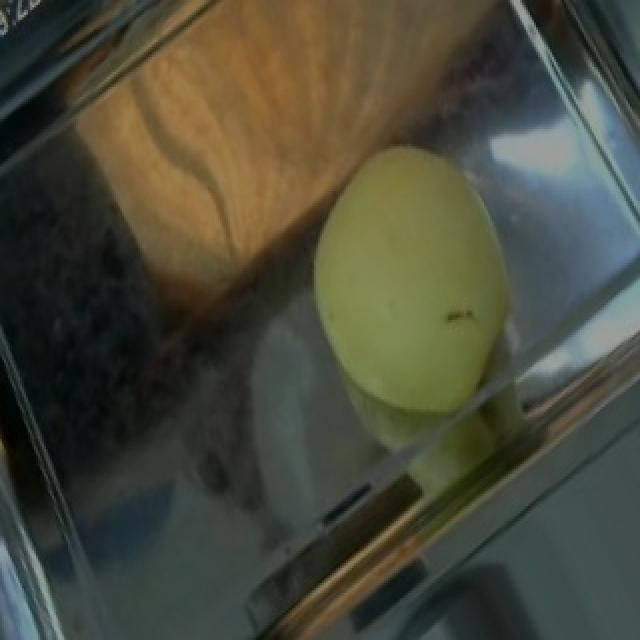Fruit: (42, 0, 400, 337), (270, 114, 556, 447)
